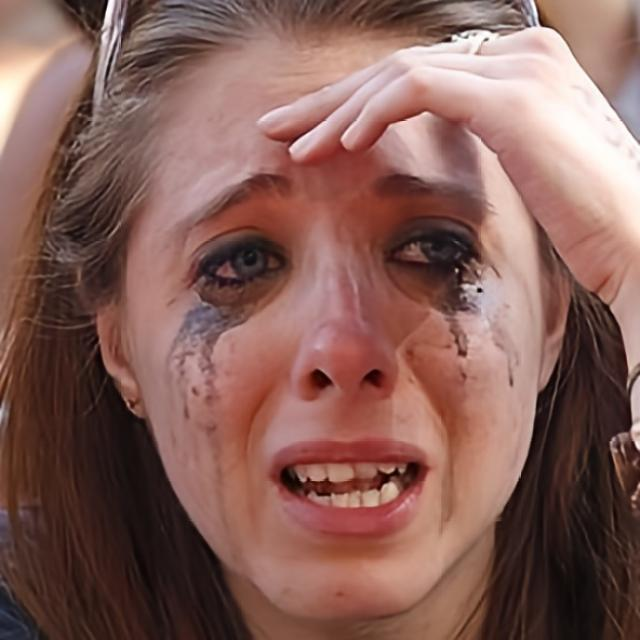sad: (125, 29, 542, 620)
